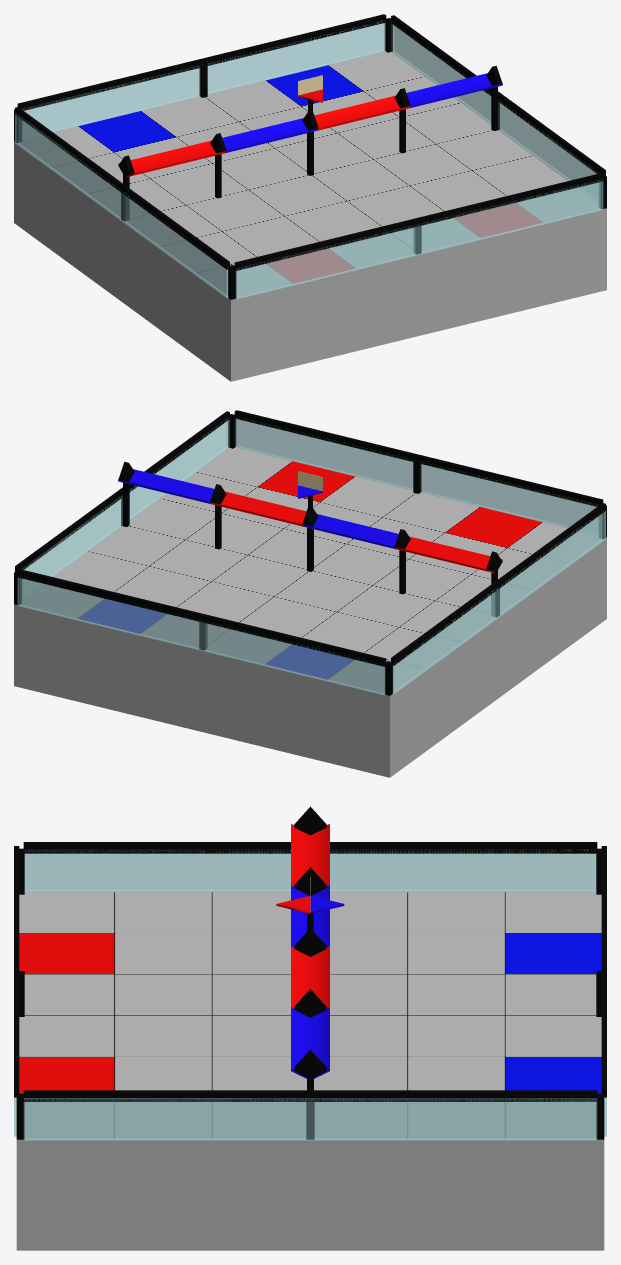
File: field2013.FBX
3 views of the same model, one above another, from view 1: azimuth 30°, elevation 25°; view 2: azimuth 150°, elevation 25°; view 3: azimuth 270°, elevation 25° (orthographic). The views are drawn at different scales.
Visible parts, largest first — view 1: Box001, Box004, Box005, Box003, Box002, Box014, Box016, Box017, Box015, redgoal, redgoal001, redgoal003 (+1 smaller); view 2: Box001, Box005, Box004, Box003, Box002, Box016, Box014, Box017, Box015, redgoal, redgoal001, redgoal003 (+1 smaller); view 3: Box001, Box002, Box003, Box015, Box017, redgoal002, redgoal003, redgoal, Box014, Box016, redgoal001.
Boxes of the visible parts, <box> form: Box001: <box>14,51,606,381</box>; Box004: <box>235,180,603,299</box>; Box005: <box>22,20,385,138</box>; Box003: <box>15,112,228,298</box>; Box002: <box>391,22,599,202</box>; Box014: <box>234,173,603,270</box>; Box016: <box>17,14,386,110</box>; Box017: <box>15,107,229,269</box>; Box015: <box>391,15,605,175</box>; redgoal: <box>118,141,224,176</box>; redgoal001: <box>211,118,317,153</box>; redgoal003: <box>303,95,410,130</box>; Box001: <box>14,447,606,777</box>; Box005: <box>17,577,385,695</box>; Box004: <box>235,416,597,534</box>; Box003: <box>392,511,605,694</box>; Box002: <box>23,419,229,598</box>; Box016: <box>17,569,386,666</box>; Box014: <box>234,410,603,506</box>; Box017: <box>391,503,605,665</box>; Box015: <box>15,411,229,571</box>; redgoal: <box>396,537,502,572</box>; redgoal001: <box>303,514,409,549</box>; redgoal003: <box>210,491,306,526</box>; Box001: <box>16,891,604,1250</box>; Box002: <box>23,1098,597,1140</box>; Box003: <box>24,849,596,892</box>; Box015: <box>23,1090,597,1101</box>; Box017: <box>23,842,597,853</box>; redgoal002: <box>291,1007,329,1078</box>; redgoal003: <box>291,946,329,1008</box>; redgoal: <box>291,824,329,886</box>; Box014: <box>14,846,19,1097</box>; Box016: <box>601,846,606,1097</box>; redgoal001: <box>291,885,329,947</box>.
Size of the model in its own units: 0.0369 by 0.0166 by 0.0369.
